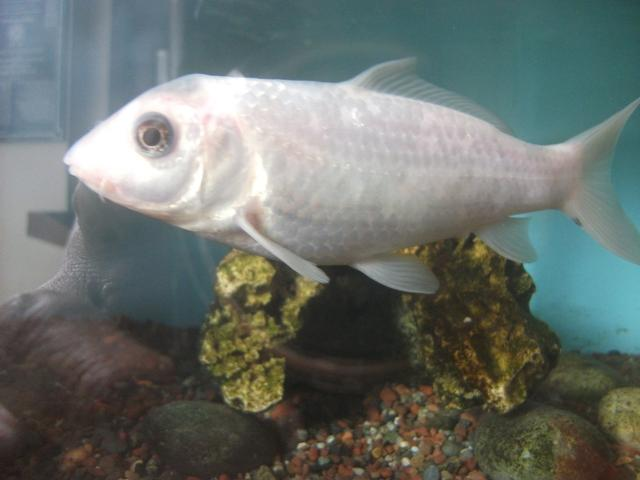Mulut: (43, 132, 124, 214)
Sirip Anal: (473, 205, 543, 273)
Sirip Dada: (224, 206, 338, 298)
Sirip Ekor: (564, 90, 640, 286)
Sirip Perut: (341, 233, 447, 303)
Sirip Punggung: (338, 44, 534, 146)
